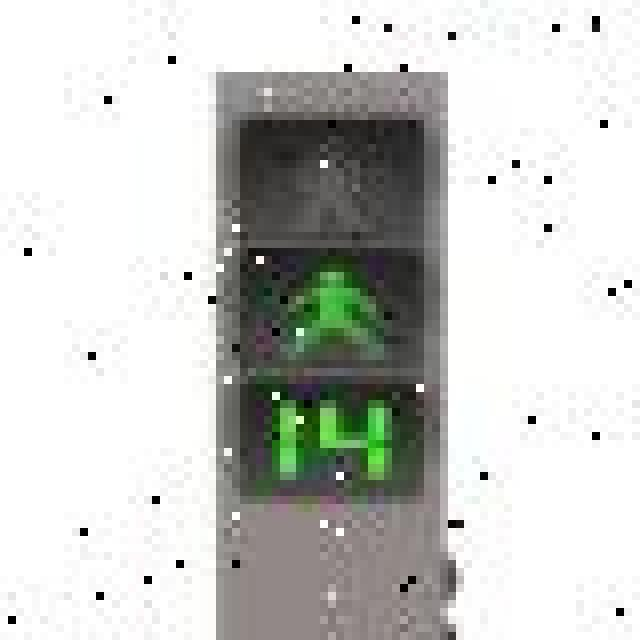greenlight: (200, 96, 440, 384)
